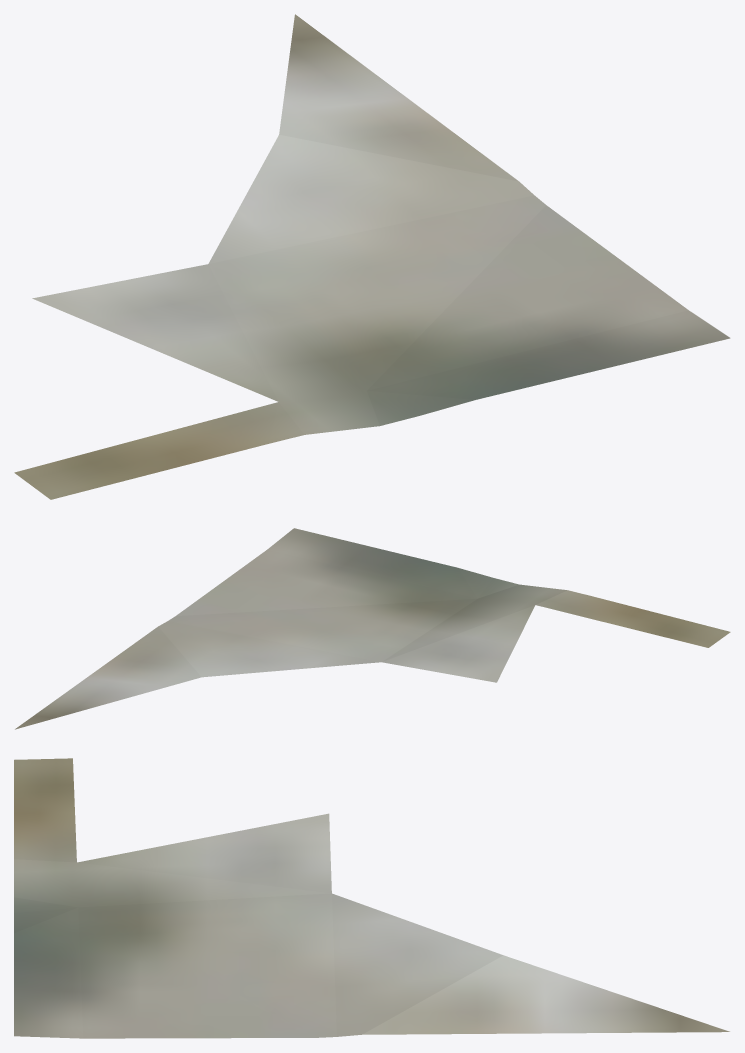
The picture shows the model from 3 angles, top to bottom: view 1: azimuth 30°, elevation 25°; view 2: azimuth 150°, elevation 25°; view 3: azimuth 270°, elevation 25°; orthographic projection. The views are drawn at different scales.
Size of the model in its own units: 7.65 by 0.281 by 8.48.
1 material, 1 textured.
